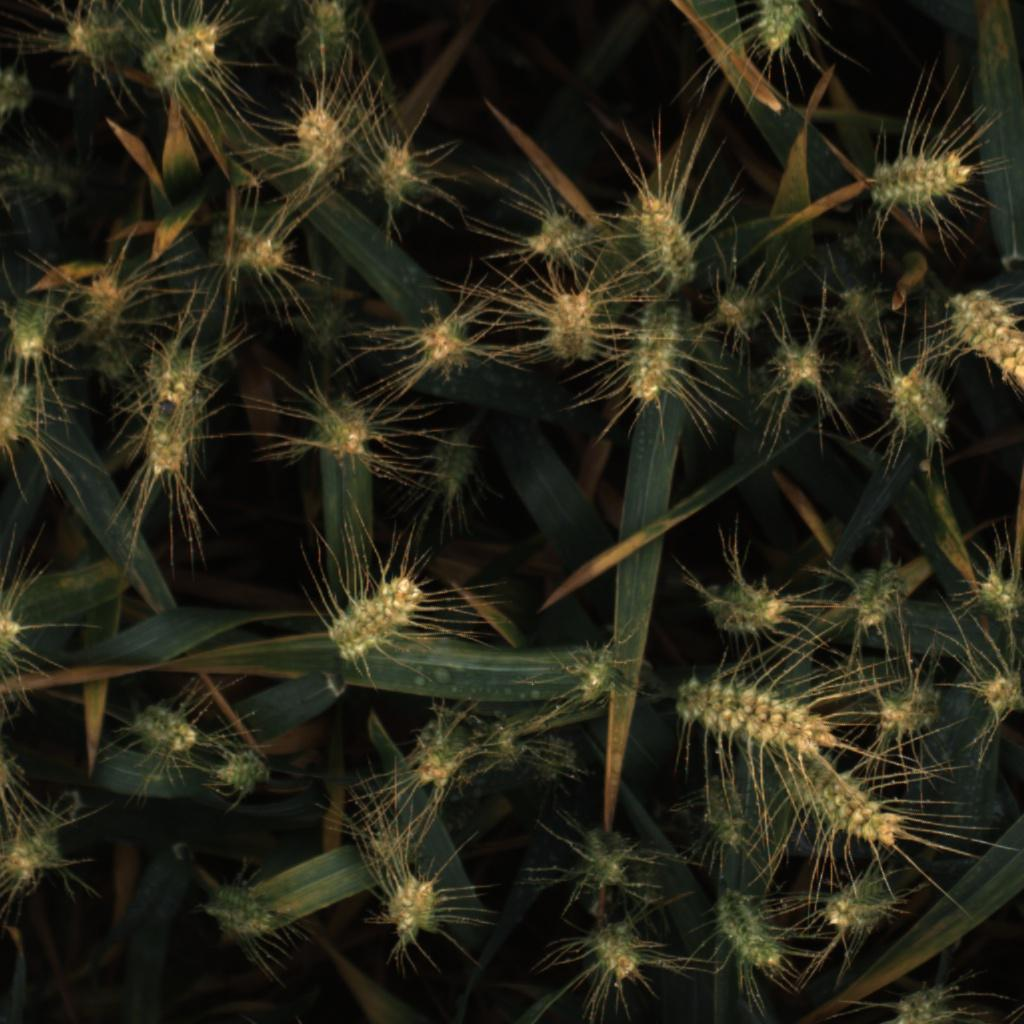0-0: (675, 676, 839, 755), (778, 758, 897, 844), (326, 572, 427, 662), (944, 287, 1024, 391), (1, 813, 79, 899), (623, 299, 685, 405), (867, 149, 968, 213), (634, 187, 698, 285), (713, 888, 787, 971), (143, 21, 225, 93), (206, 218, 297, 279), (378, 872, 448, 947), (703, 574, 785, 638), (0, 143, 80, 207), (291, 0, 355, 79), (308, 390, 375, 463), (128, 696, 202, 761), (58, 10, 138, 70), (540, 287, 601, 364), (847, 558, 910, 631), (412, 712, 468, 793), (205, 879, 278, 941), (873, 675, 946, 736), (408, 309, 475, 375), (564, 642, 632, 707), (887, 372, 952, 440), (144, 399, 197, 482), (572, 825, 638, 891), (293, 94, 348, 173), (74, 270, 133, 342), (822, 875, 897, 931), (1, 295, 59, 366), (584, 918, 648, 980), (299, 296, 363, 357), (470, 721, 534, 782), (699, 768, 748, 847), (152, 341, 209, 408), (519, 212, 591, 265), (708, 275, 769, 337), (365, 144, 423, 209), (752, 0, 815, 58), (357, 816, 424, 870), (832, 279, 887, 343), (967, 565, 1024, 626), (895, 970, 962, 1021), (429, 435, 482, 499), (769, 338, 827, 396), (211, 747, 278, 796), (0, 372, 35, 456), (1, 66, 39, 125), (980, 667, 1024, 716), (839, 357, 878, 410), (0, 601, 25, 652)
